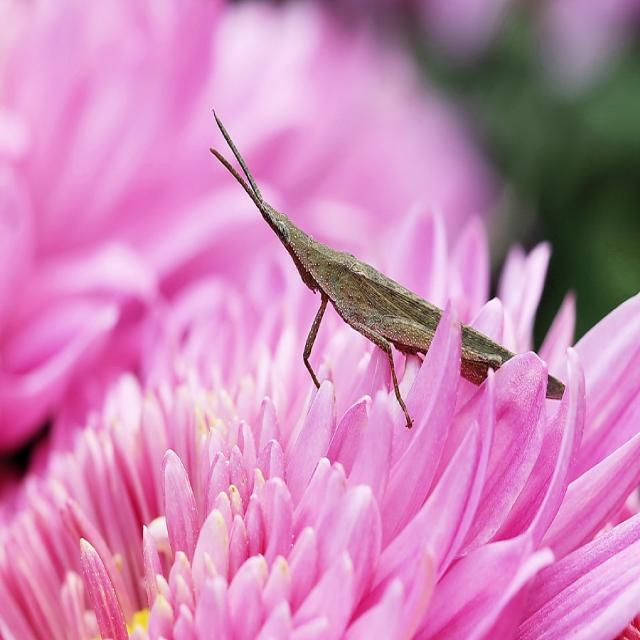ZhaMeng: (208, 109, 600, 427)
